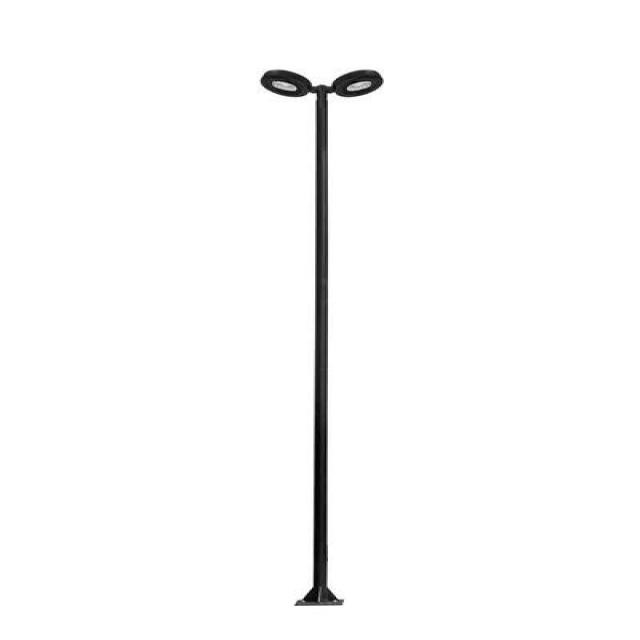Pole: (261, 69, 382, 606)
